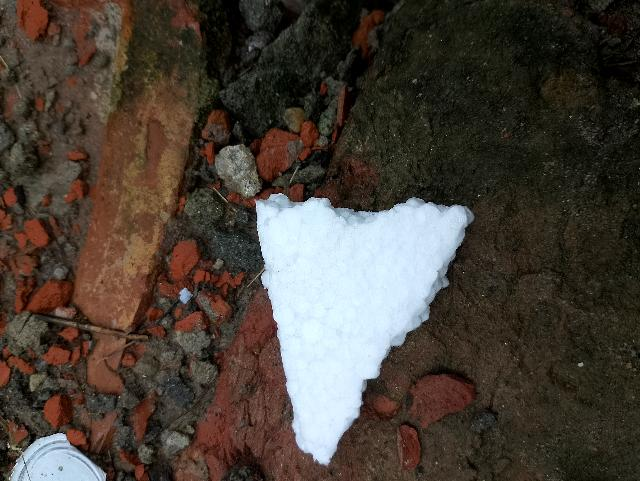cocksheet: (151, 118, 470, 470)
